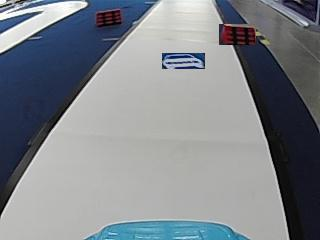bomb: (96, 8, 122, 25)
